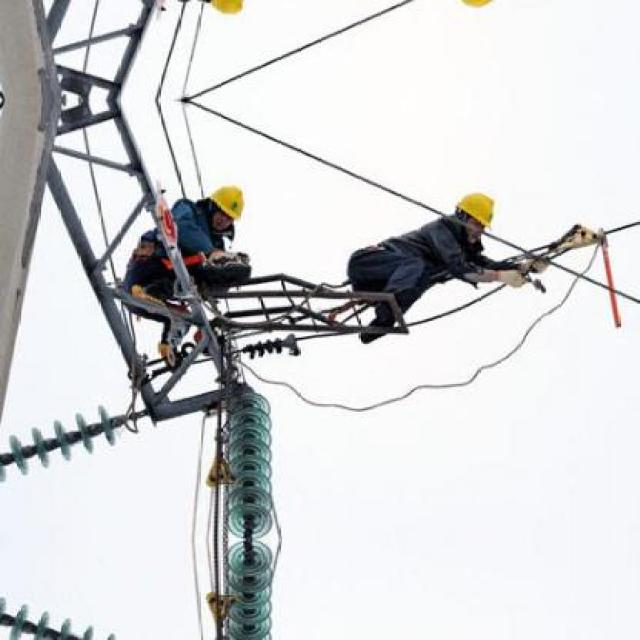helmet: (451, 188, 500, 239), (203, 179, 246, 233), (203, 0, 248, 22), (450, 0, 501, 12)
